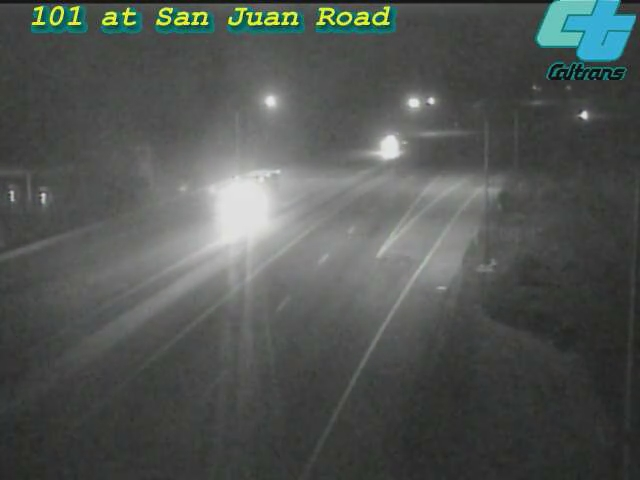vehicle: (205, 162, 285, 242), (366, 120, 416, 170), (558, 90, 608, 140)
